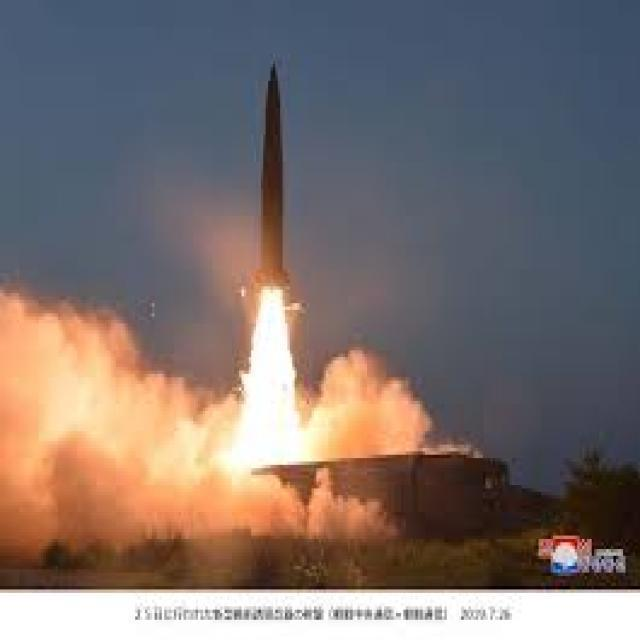Missile: (250, 48, 297, 314)
